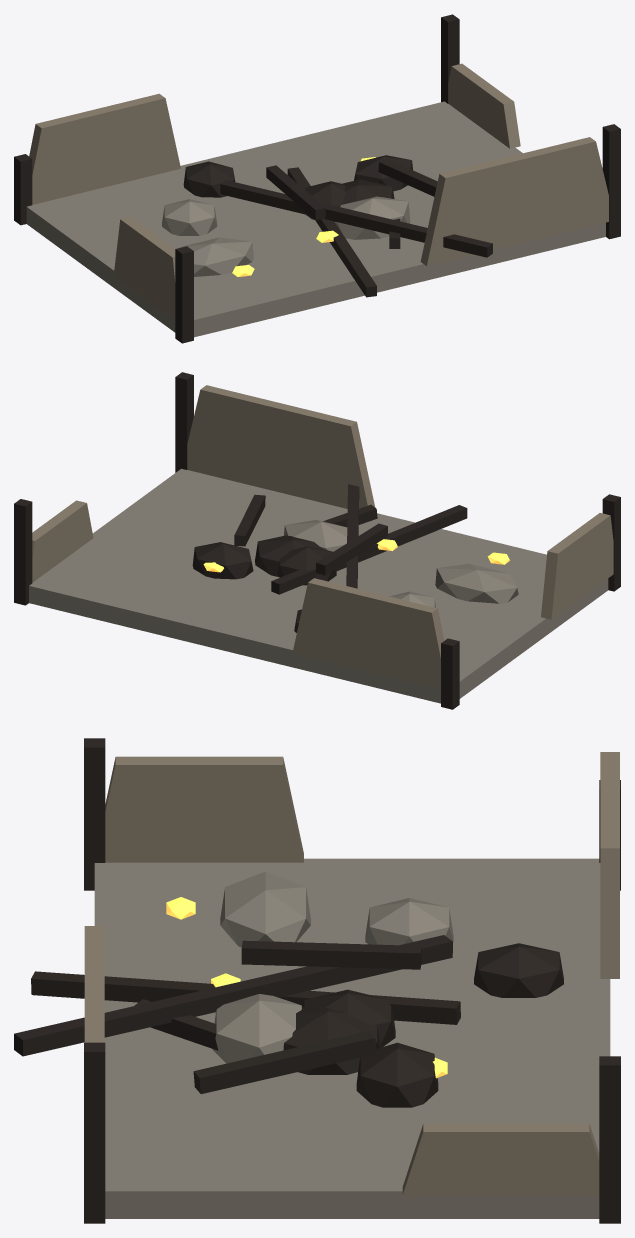
The model's file is Dorf_Scheune_Ruine.fbx.
The picture shows the model from 3 angles, top to bottom: view 1: azimuth 30°, elevation 25°; view 2: azimuth 150°, elevation 25°; view 3: azimuth 270°, elevation 25°; orthographic projection. The views are drawn at different scales.
Visible parts, largest first — view 1: Dorf_Scheune_Ruine; view 2: Dorf_Scheune_Ruine; view 3: Dorf_Scheune_Ruine.
Boxes of the visible parts, box(x1,y1,x2,y2) form: Dorf_Scheune_Ruine: box(14, 14, 620, 343); Dorf_Scheune_Ruine: box(14, 372, 620, 709); Dorf_Scheune_Ruine: box(14, 738, 620, 1223).
Bounding box in the file's own units: 9.03 × 2.16 × 6.77.
